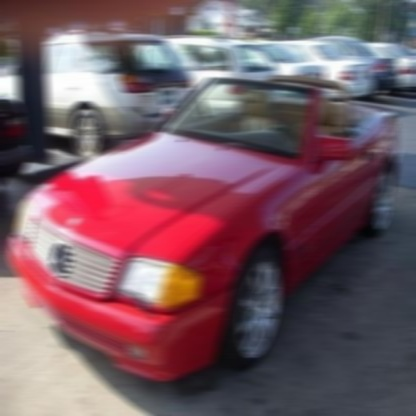Vehicle: (6, 71, 402, 387)
